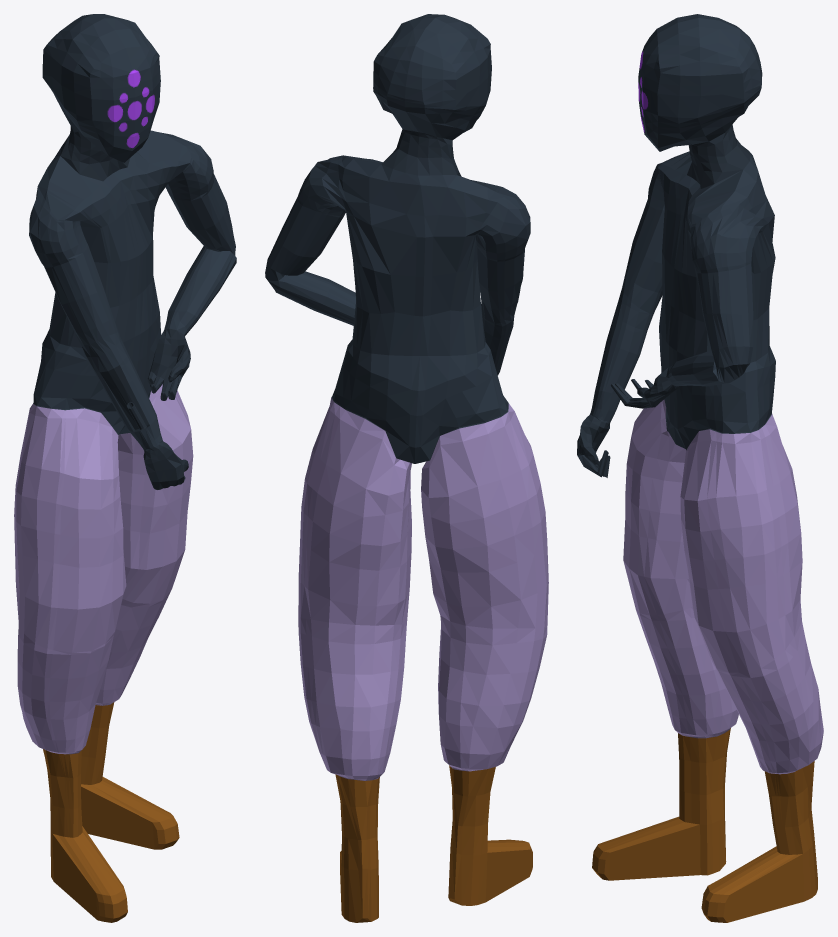
Rendered from Oracle_Die_000001.obj.
The picture shows the model from 3 angles, left to right: view 1: azimuth 30°, elevation 25°; view 2: azimuth 150°, elevation 25°; view 3: azimuth 270°, elevation 25°; orthographic projection. The views are drawn at different scales.
Visible parts, largest first — view 1: Cube; view 2: Cube; view 3: Cube.
Boxes of the visible parts, bbox=[...] form: Cube: bbox=[14, 14, 236, 922]; Cube: bbox=[265, 14, 548, 922]; Cube: bbox=[577, 14, 823, 922].
Size of the model in its own units: 1.15 by 3.95 by 1.01.
